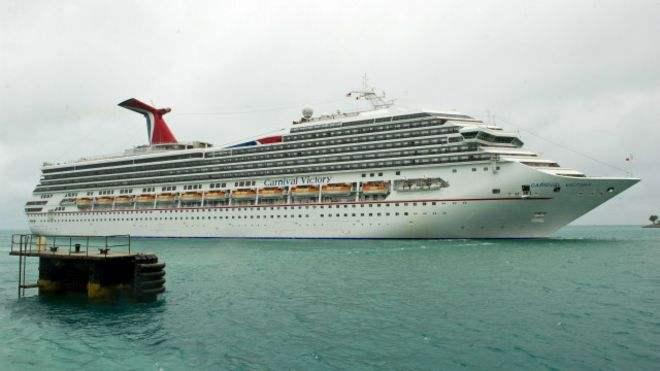youlun: (28, 78, 640, 237)
